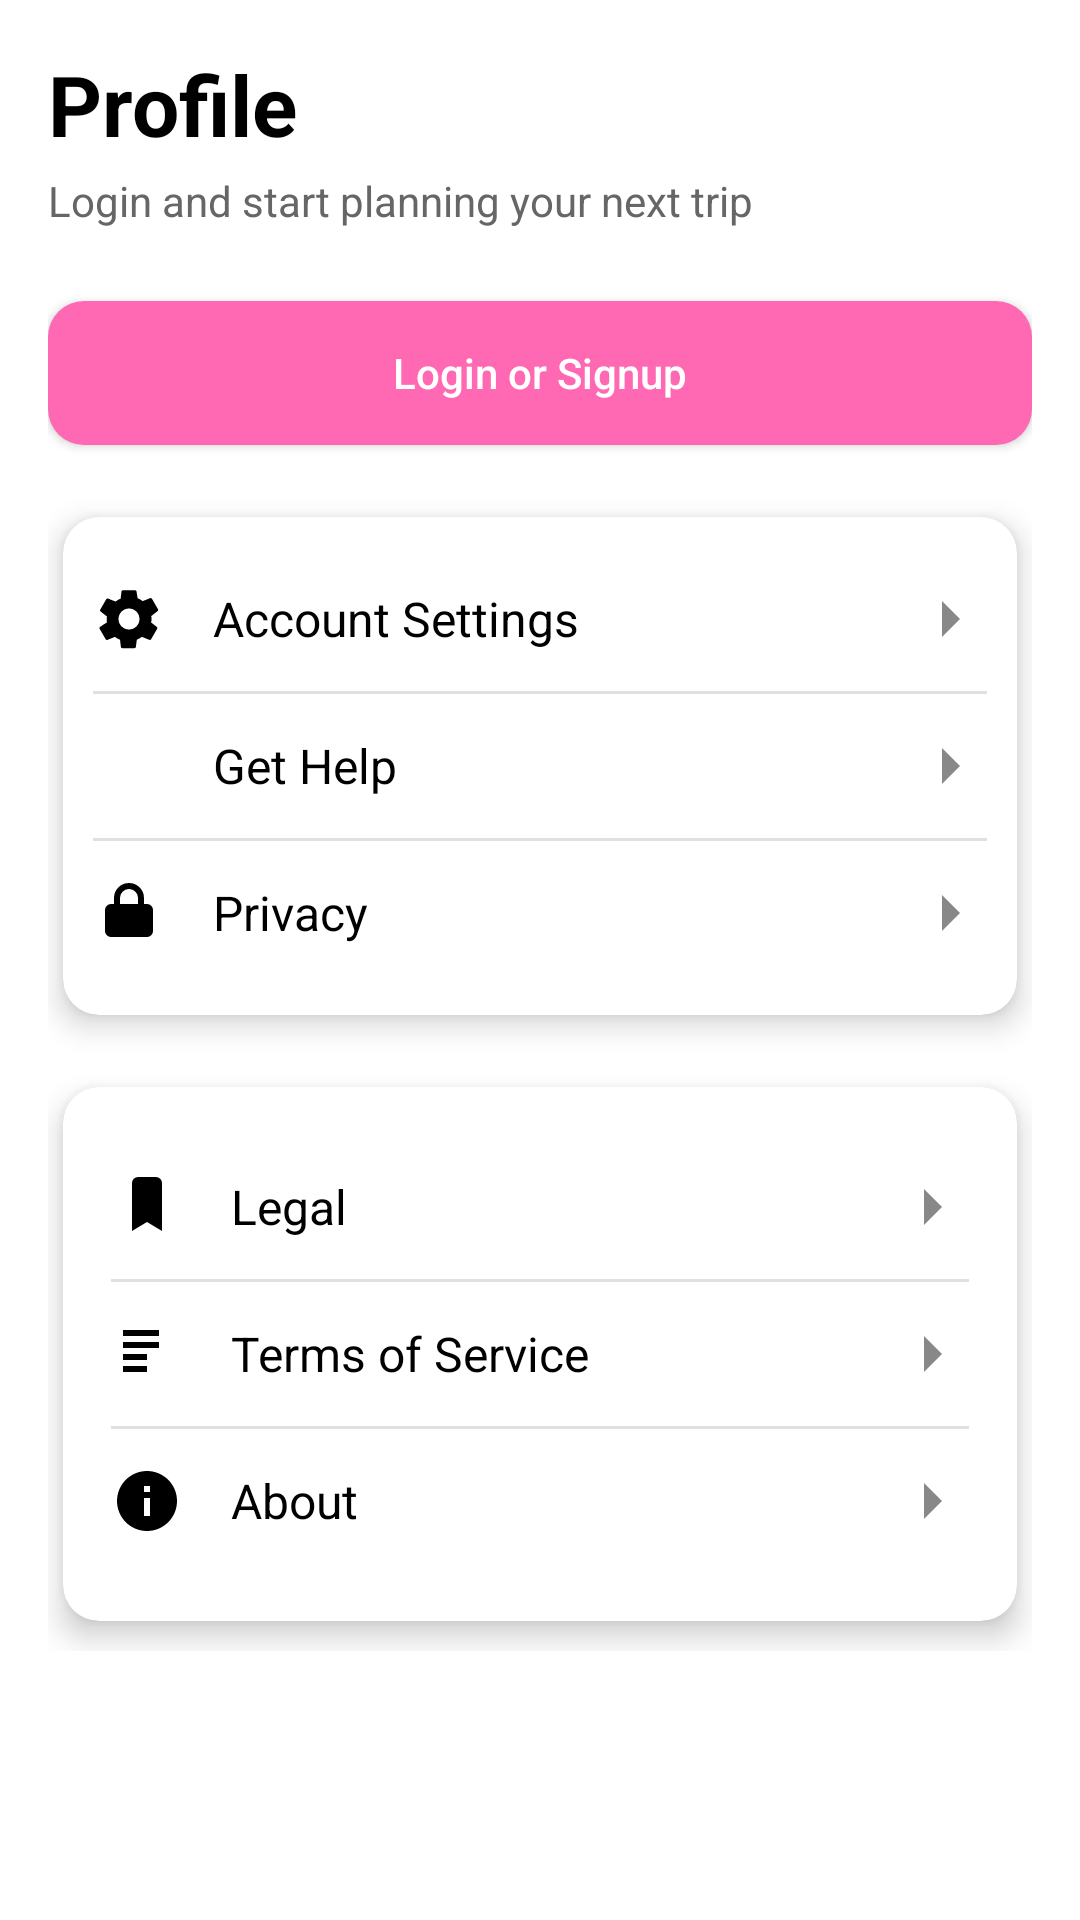

Screen size 1080px×1920px. Icon name, then its box in pixels as (x1, y1, x2, y2):
arrow right: (942, 601, 960, 637), (942, 748, 960, 784), (942, 895, 960, 931), (924, 1189, 942, 1225), (924, 1336, 942, 1372), (924, 1483, 942, 1519)
